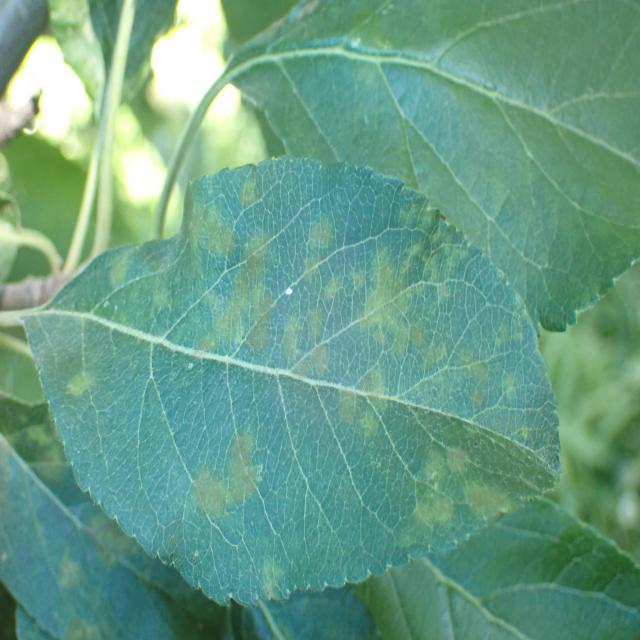scab: (25, 162, 552, 617)
